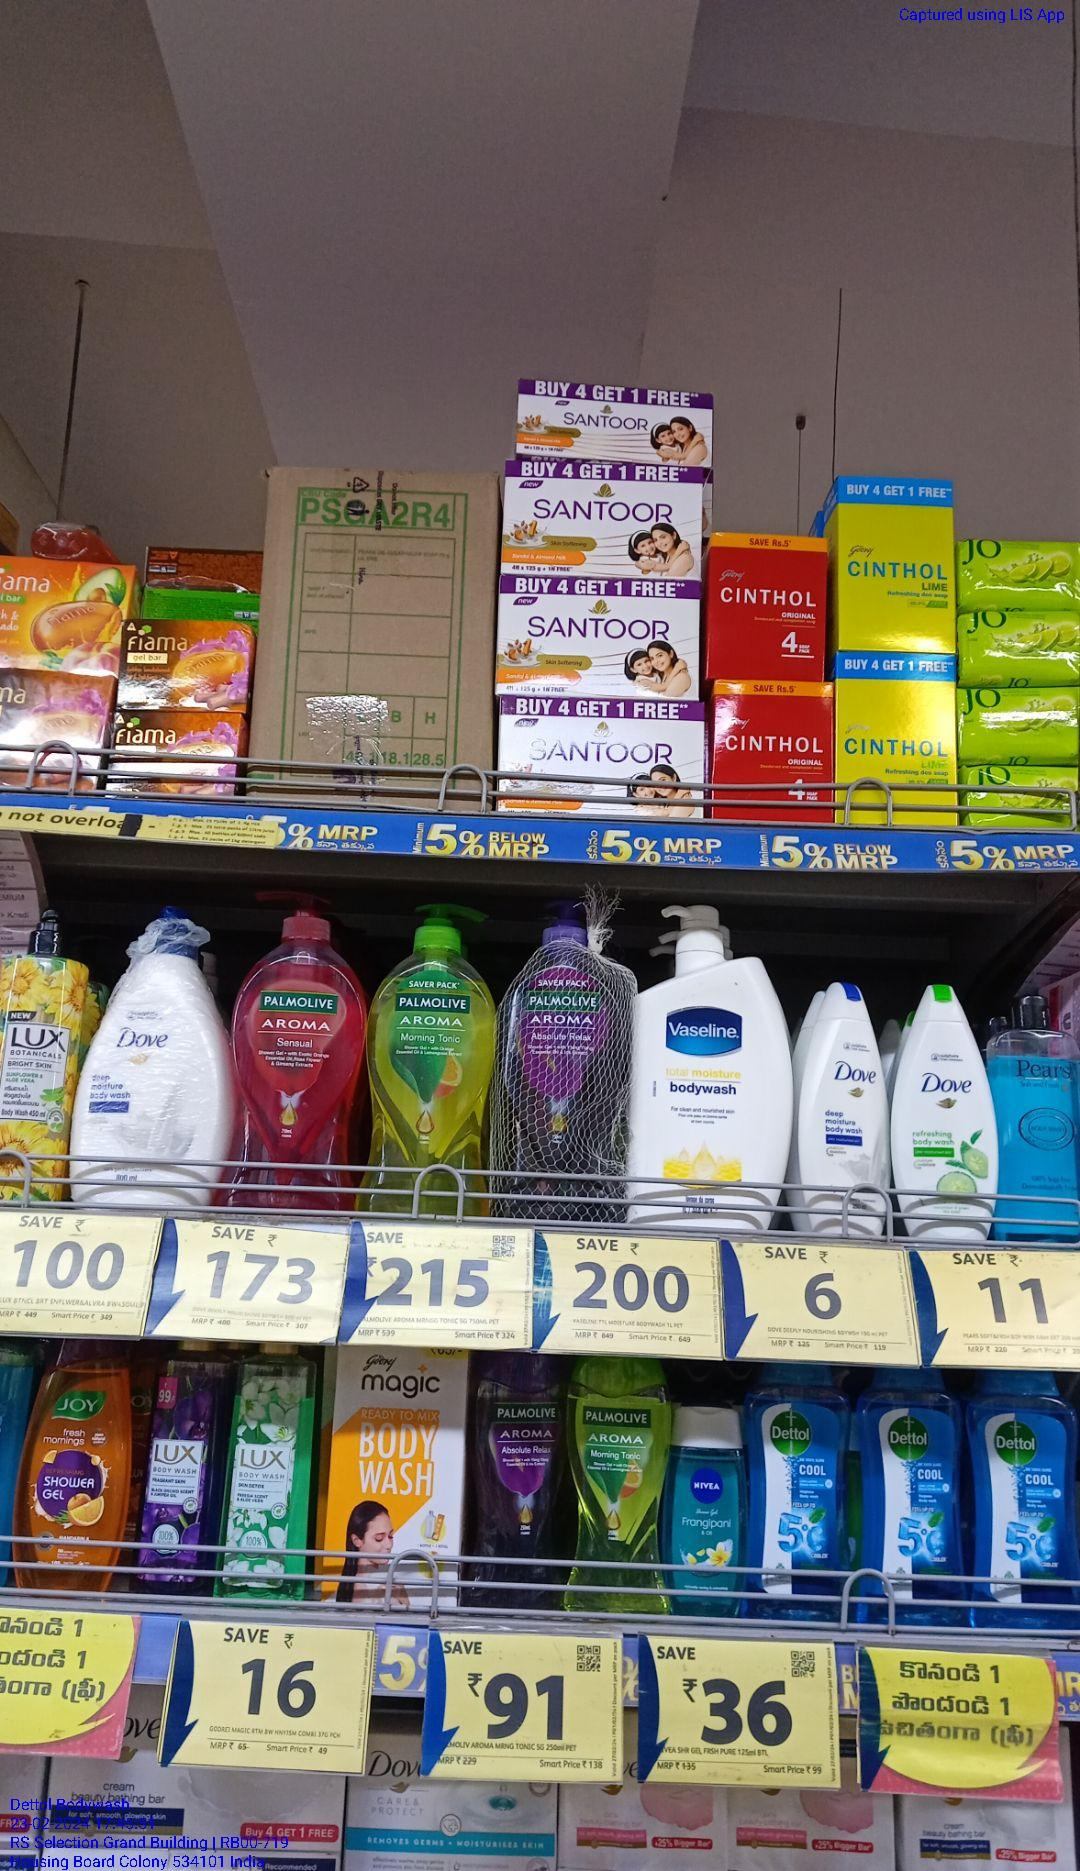Dettol_Bodywash_Cool: (859, 1367, 968, 1628), (972, 1367, 1076, 1632), (750, 1360, 850, 1623)
Dove_Deep_Moisture_Body_Wash_250ML: (798, 982, 892, 1236)
Dove_Refreshing_Body_Wash_250ML: (895, 980, 996, 1244)
Joy_Shower_Gel_Mandarin_and_Lemongrass_250ML: (18, 1335, 130, 1592)
Lux_Black_Orchid_Scent_and_Juniper_Oil_Body_Wash_245ML: (141, 1336, 217, 1599)
Lux_Body_Wash_Skin_Detox_Freesia_Scent_and_Alove_Vera_245ML: (224, 1343, 314, 1604)
Nivea_Shower_Gel_Frangipani_and_Oil_250ML: (671, 1407, 748, 1617)
Palmolive_Aroma_Morning_Tonic_Shower_Gel_250ML: (570, 1352, 671, 1618)
Palmolive_Aroma_Relax_250ML: (471, 1348, 567, 1610)
Pears_Pure_Glycerin_and_Mint_Extracts_Body_Wash_250ML: (996, 995, 1080, 1244)
